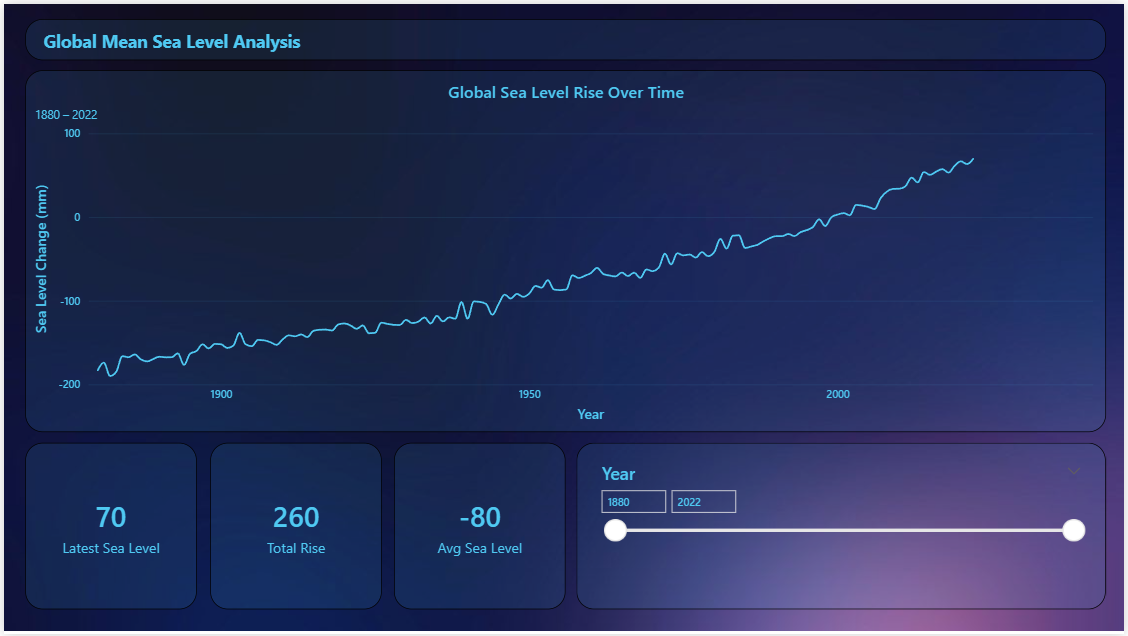

This screenshot's page, from the dashboard's own definition file:
{"tool":"powerbi","page":{"name":"Page 1","canvas":[1280,720],"ordinal":0},"visuals":[{"type":"lineChart","title":"Global Sea Level Rise Over Time","fields":{"Category":["Global_sea_level_rise.year"],"Y":["Sum(Global_sea_level_rise.SeaLevel_mm)"]},"box":[23.8,76.2,1235,413.8],"z":0},{"type":"slicer","fields":{"Values":["Global_sea_level_rise.year"]},"box":[653.8,501.2,605,190],"z":3000},{"type":"card","fields":{"Values":["Global_sea_level_rise.Latest Sea Level"]},"box":[23.8,501.2,196.2,190],"z":3001},{"type":"card","fields":{"Values":["Global_sea_level_rise.Total Rise"]},"box":[235,501.2,196.2,190],"z":3002},{"type":"card","fields":{"Values":["Global_sea_level_rise.Avg Sea Level"]},"box":[445,501.2,196.2,190],"z":3003},{"type":"textbox","title":"Global Mean Sea Level Analysis","box":[23.8,17.5,1235,47.5],"z":3004}]}

Visuals, with their boxes in screenshot pixels (x1, y1, x2, y2), scaled from the page's 1280x720 canvas onto the 1128x636 screenshot:
"Global Sea Level Rise Over Time" lineChart: {"x1": 21, "y1": 67, "x2": 1109, "y2": 433}
slicer - Global_sea_level_rise.year: {"x1": 576, "y1": 443, "x2": 1109, "y2": 611}
card - Global_sea_level_rise.Latest Sea Level: {"x1": 21, "y1": 443, "x2": 194, "y2": 611}
card - Global_sea_level_rise.Total Rise: {"x1": 207, "y1": 443, "x2": 380, "y2": 611}
card - Global_sea_level_rise.Avg Sea Level: {"x1": 392, "y1": 443, "x2": 565, "y2": 611}
"Global Mean Sea Level Analysis" textbox: {"x1": 21, "y1": 15, "x2": 1109, "y2": 57}
